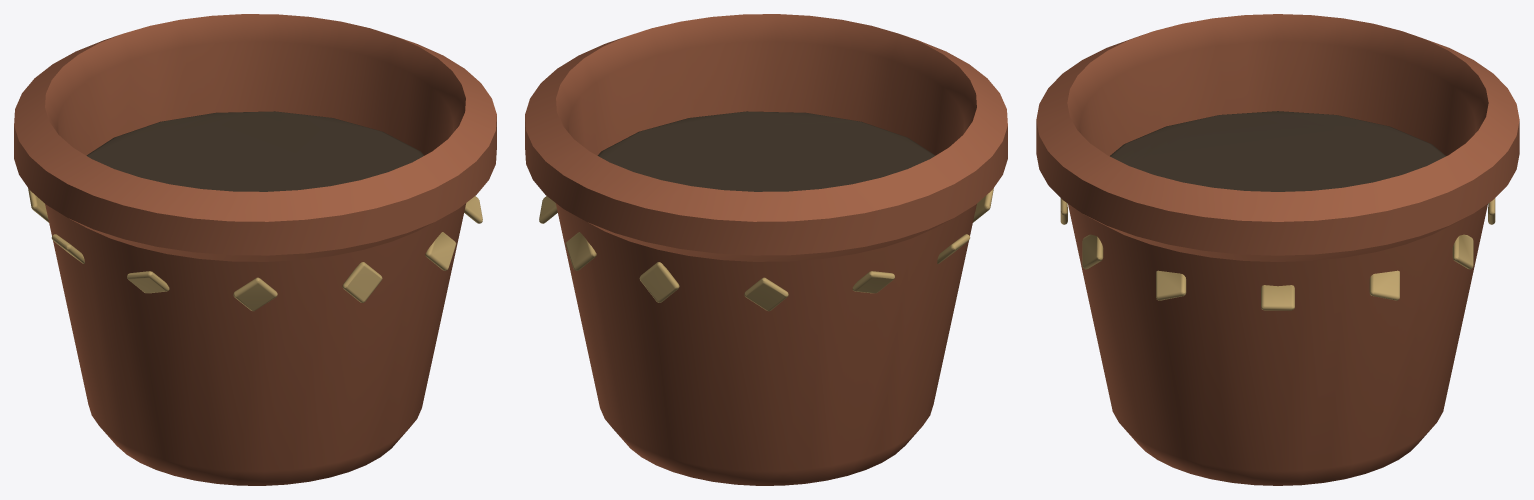
File: fw_planter_terracotta.glb
3 renders of one model, left to right at view 1: azimuth 30°, elevation 25°; view 2: azimuth 150°, elevation 25°; view 3: azimuth 270°, elevation 25°, orthographic.
Visible parts, largest first — view 1: body; view 2: body; view 3: body.
Boxes of the visible parts, x1,y1,x2,y2 form: body: [14, 14, 496, 485]; body: [525, 14, 1007, 485]; body: [1036, 14, 1519, 485].
Size of the model in its own units: 0.78 by 0.57 by 0.78.
